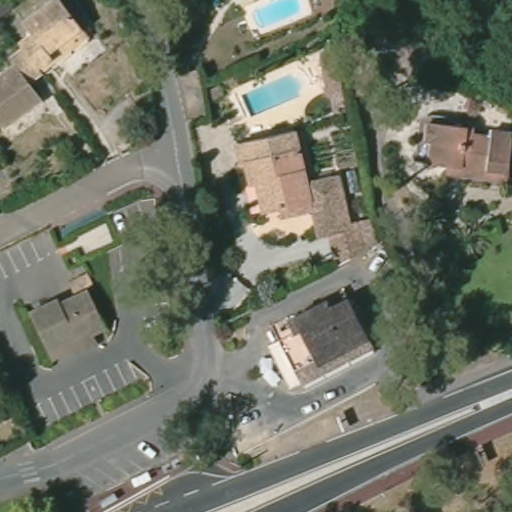pool: (238, 76, 311, 120), (250, 1, 315, 34)
